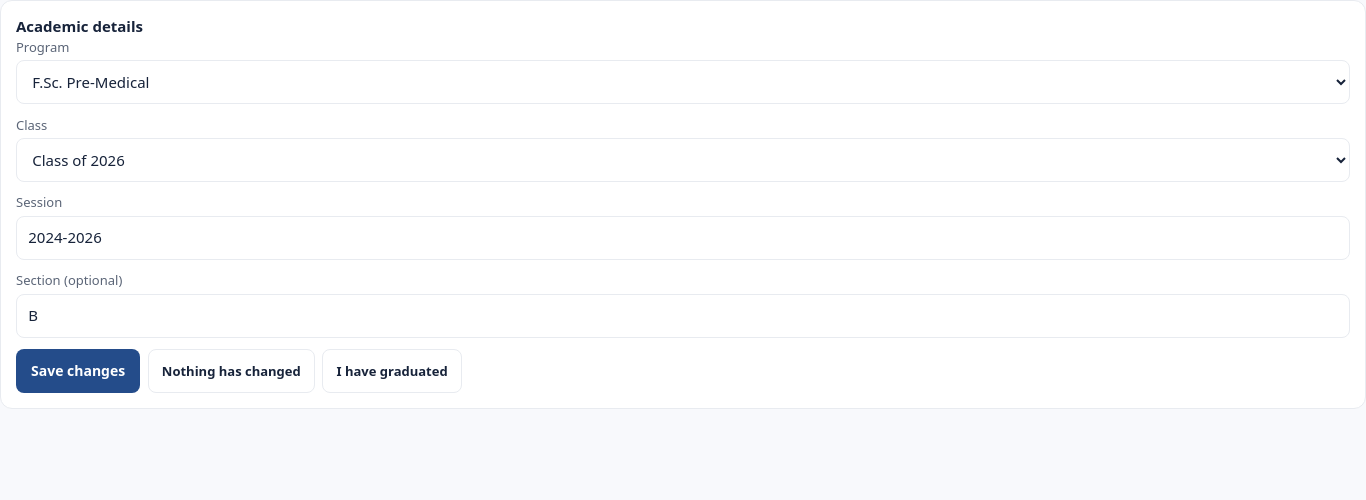
Scenario: Academic details card › asks before graduating, and then explains nothing is deleted
Click the button "I have graduated".
click(392, 371)  # box [322,349,462,393]
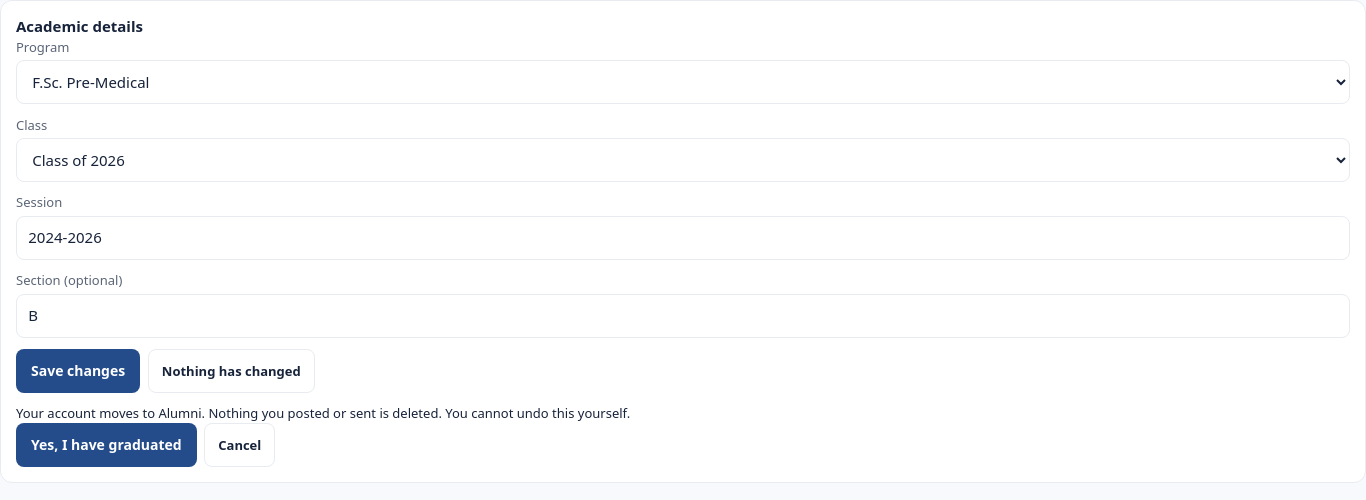
Expected: the text "Nothing you posted or sent is deleted" is shown, [16,404,630,422]
Click the button "Cancel".
click(240, 445)  # box [204,423,275,467]
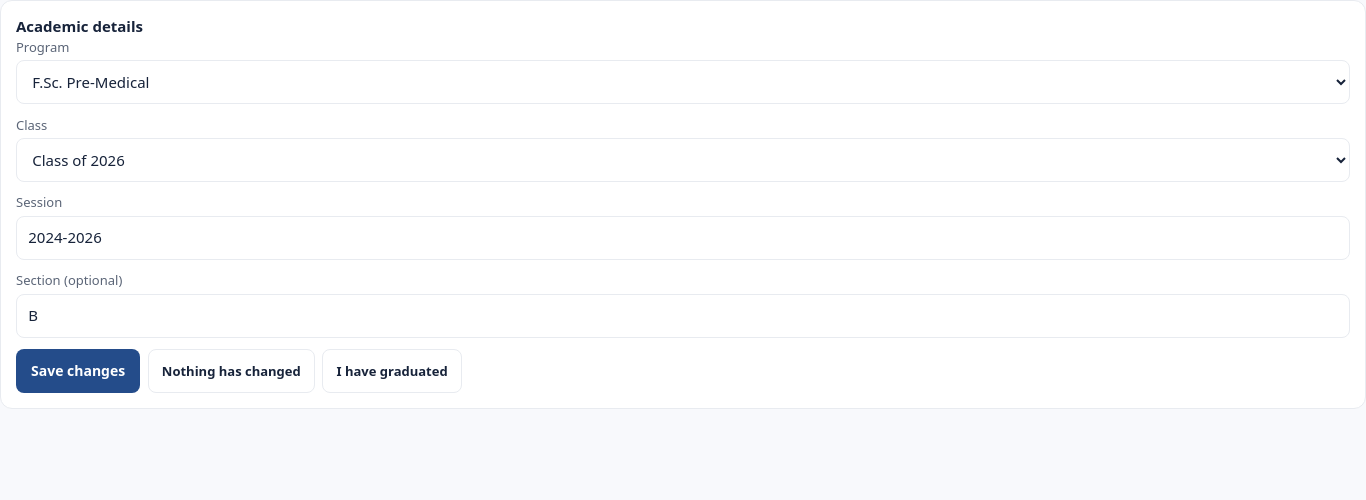
Click the button "I have graduated".
click(392, 371)  # box [322,349,462,393]
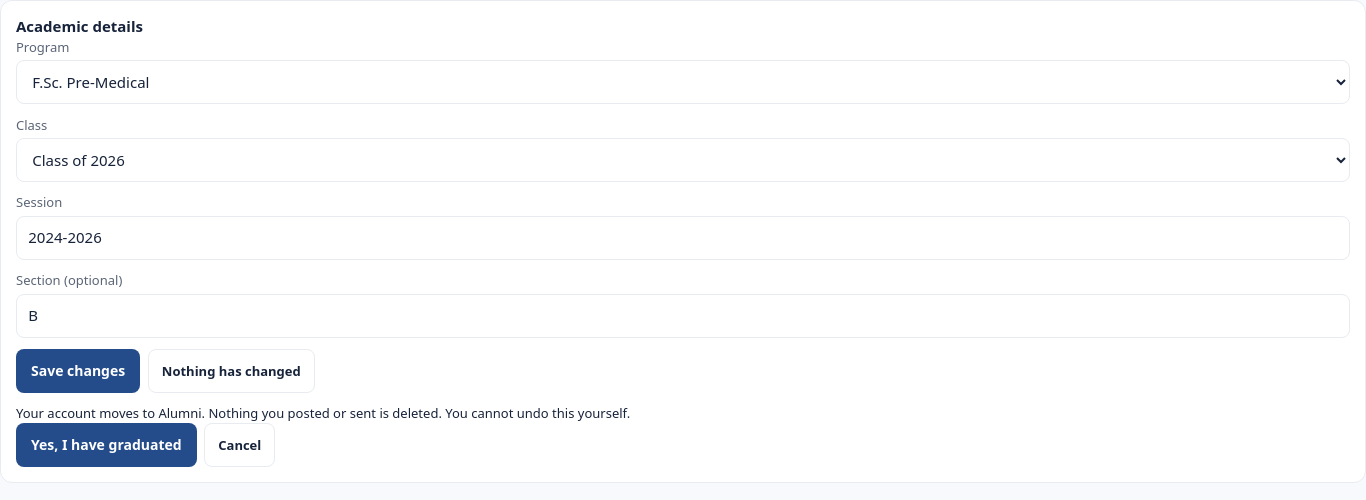
Click the button "Yes, I have graduated".
click(106, 445)  # box [16,423,197,467]
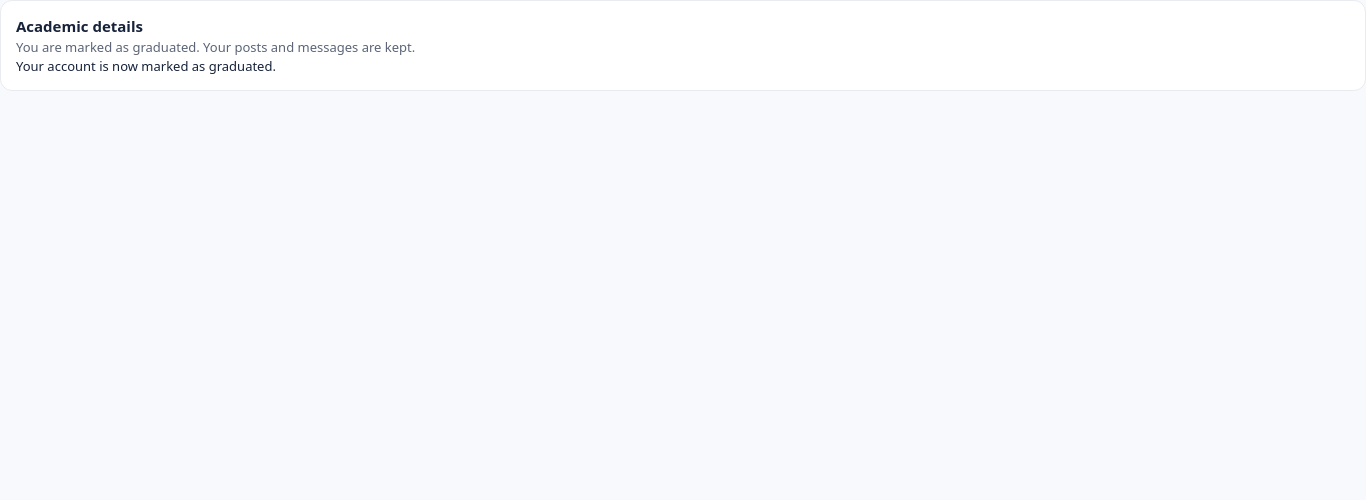
Expected: the text "marked as graduated" is shown, [16,38,415,56]
Expected: the label with id "acad-program" is gone
